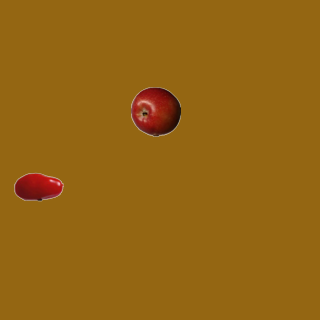Apple Braeburn: (130, 86, 180, 136)
Tomato 2: (13, 161, 63, 211)
